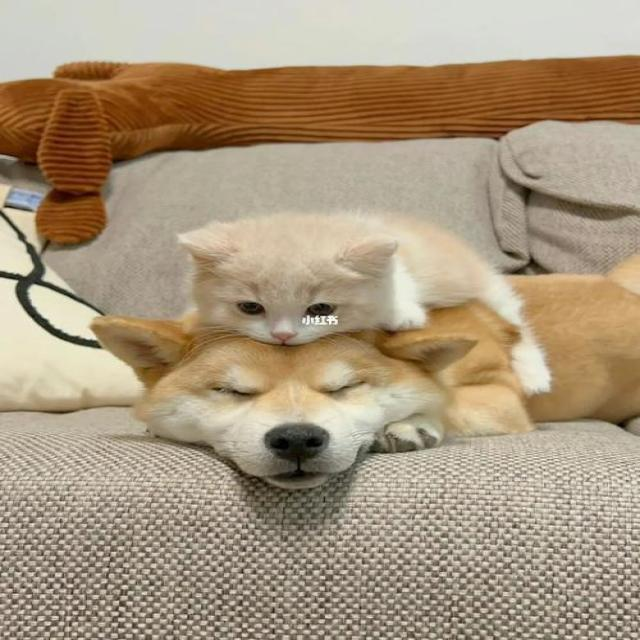cat: (160, 209, 412, 347)
dog: (66, 313, 506, 503)
